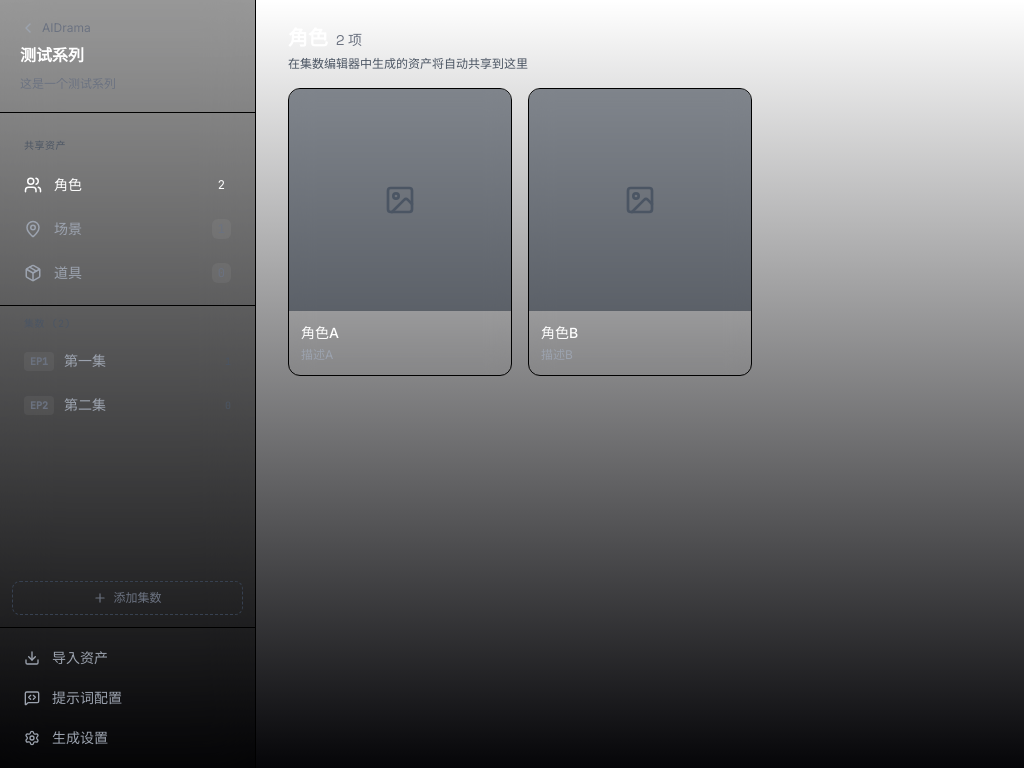
Test: SeriesDetailPage › Edit title › enters edit mode on double click
Double-click the heading "测试系列".
double_click(52, 56)  # box [20, 45, 84, 66]
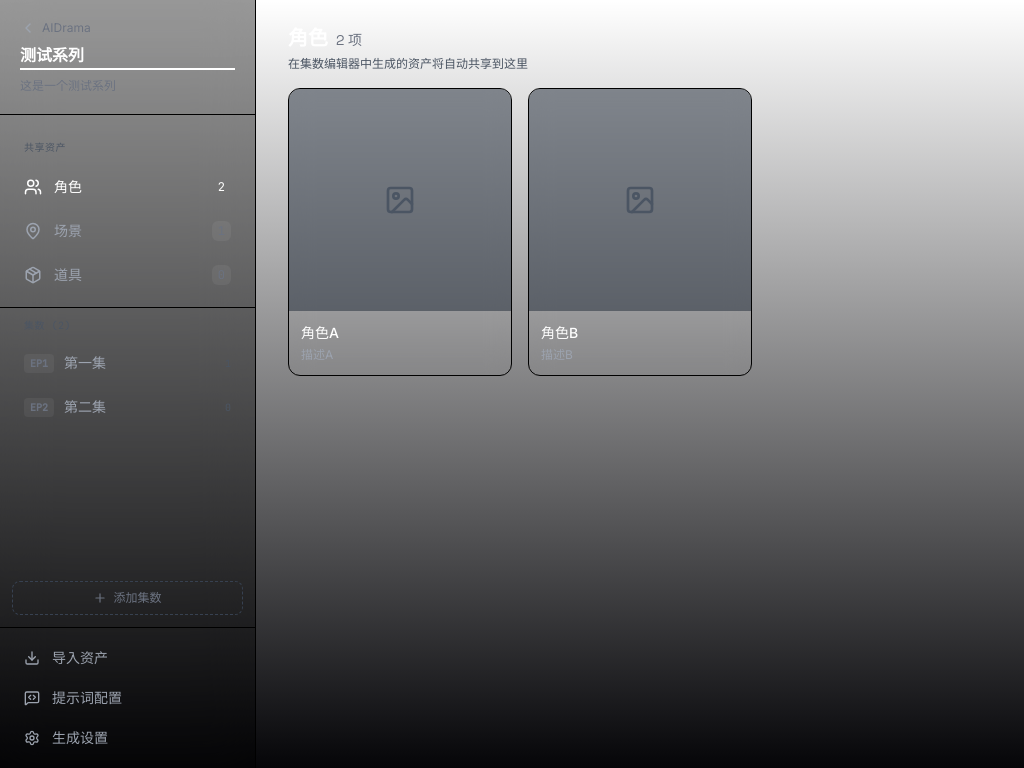
Expected: the field showing "测试系列" is shown, [20, 44, 235, 70]
